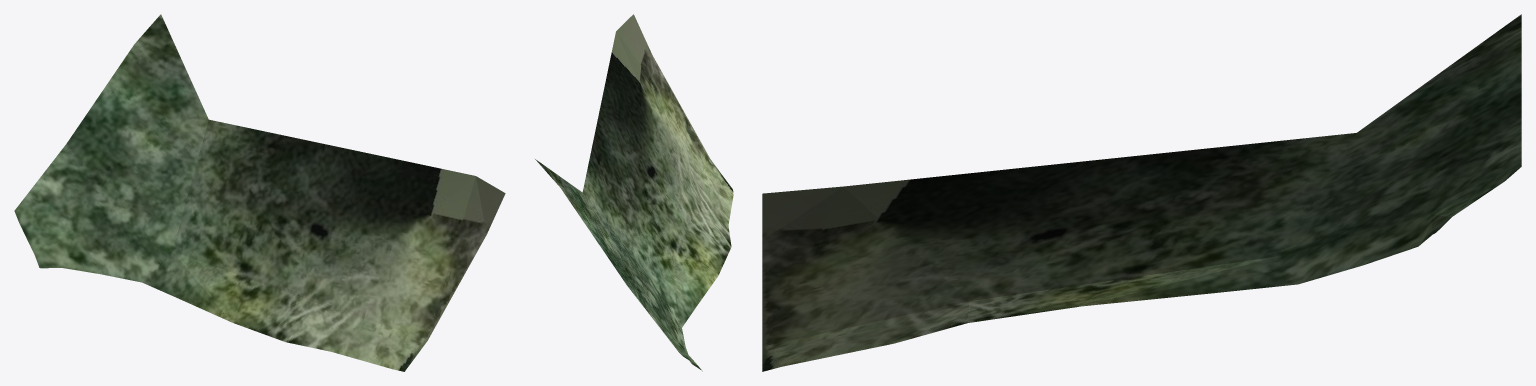
The picture shows the model from 3 angles, left to right: view 1: azimuth 30°, elevation 25°; view 2: azimuth 150°, elevation 25°; view 3: azimuth 270°, elevation 25°; orthographic projection. The views are drawn at different scales.
Size of the model in its own units: 4.1 by 2.92 by 5.9.
Materials: 1 (1 with a texture image).
